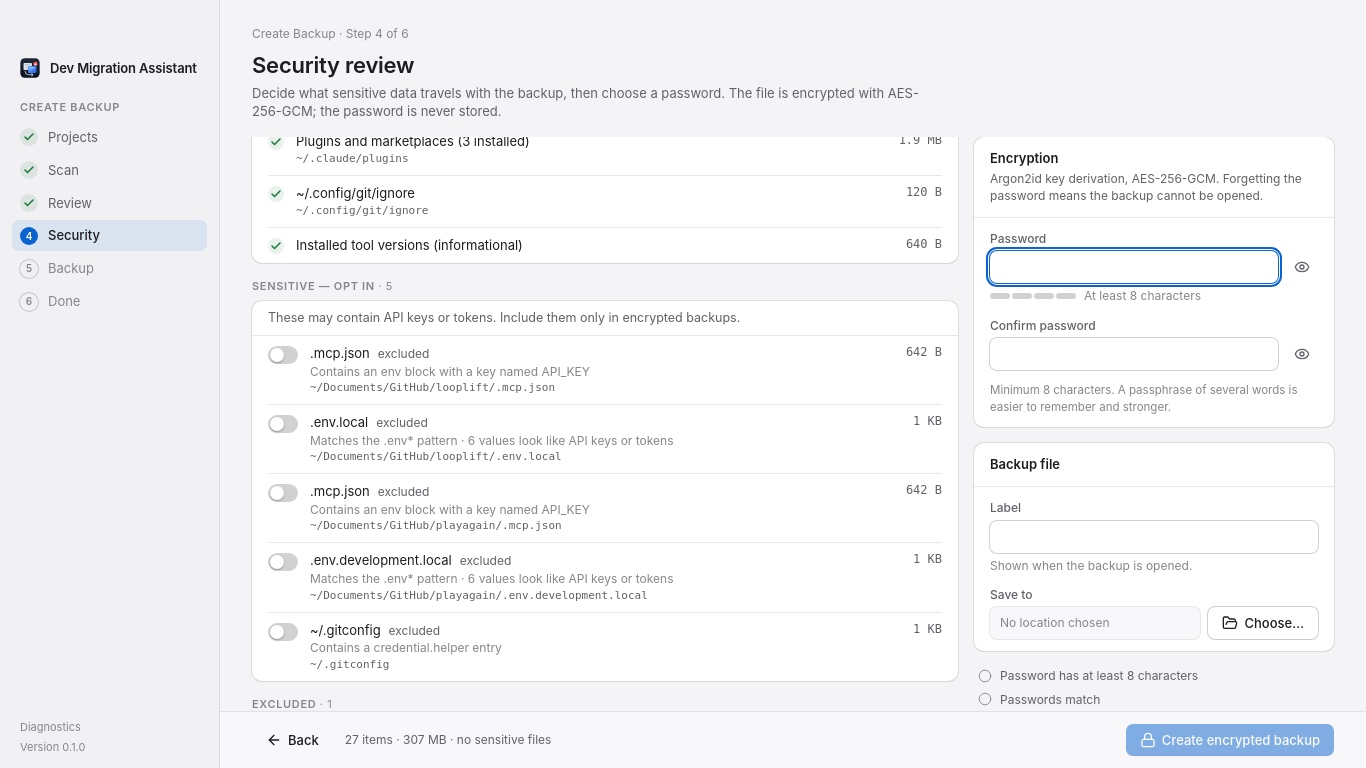
Scenario: Security Review › groups included / sensitive / excluded / credentials and lets sensitive files opt in
The image size is (1366, 768).
(page scrolled)
Expected: the element with test id "security-sensitive" shows "These may contain API keys or tokens. Include them only in encrypted backups.", top-left (268, 310), bottom-right (740, 325)
Click the switch with test id "security-sensitive-files:proj_looplift:env" at (283, 424), box top-left (268, 415), bottom-right (298, 433)
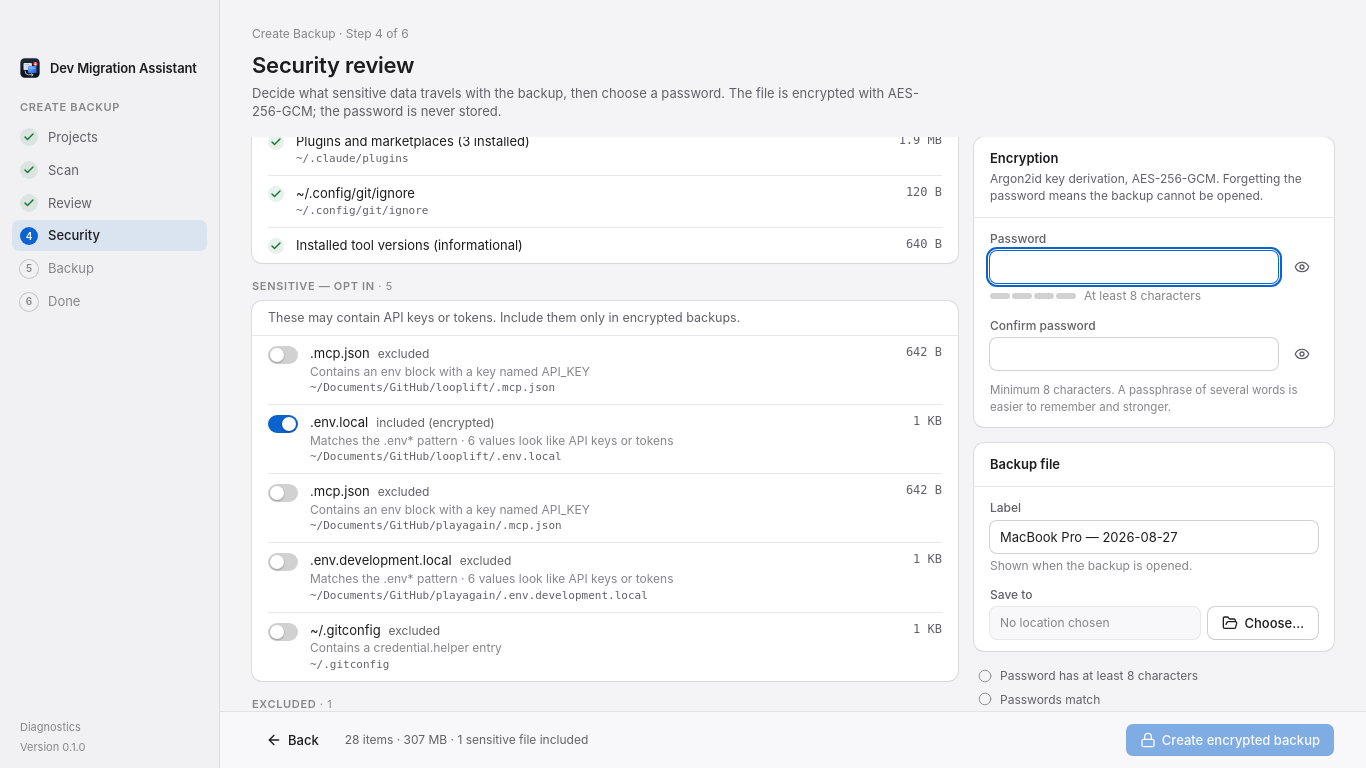
Result: the text with test id "security-summary" shows "1 sensitive file included" at top-left (447, 732), bottom-right (588, 747)
